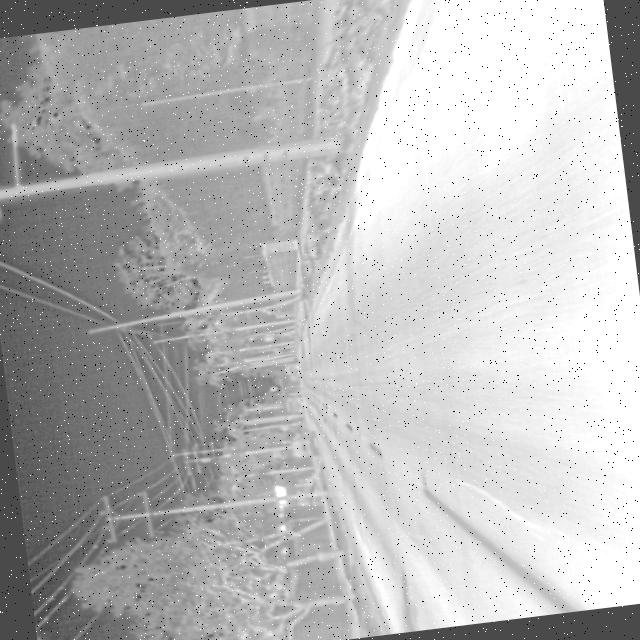Vehicle: (288, 427, 321, 460)
